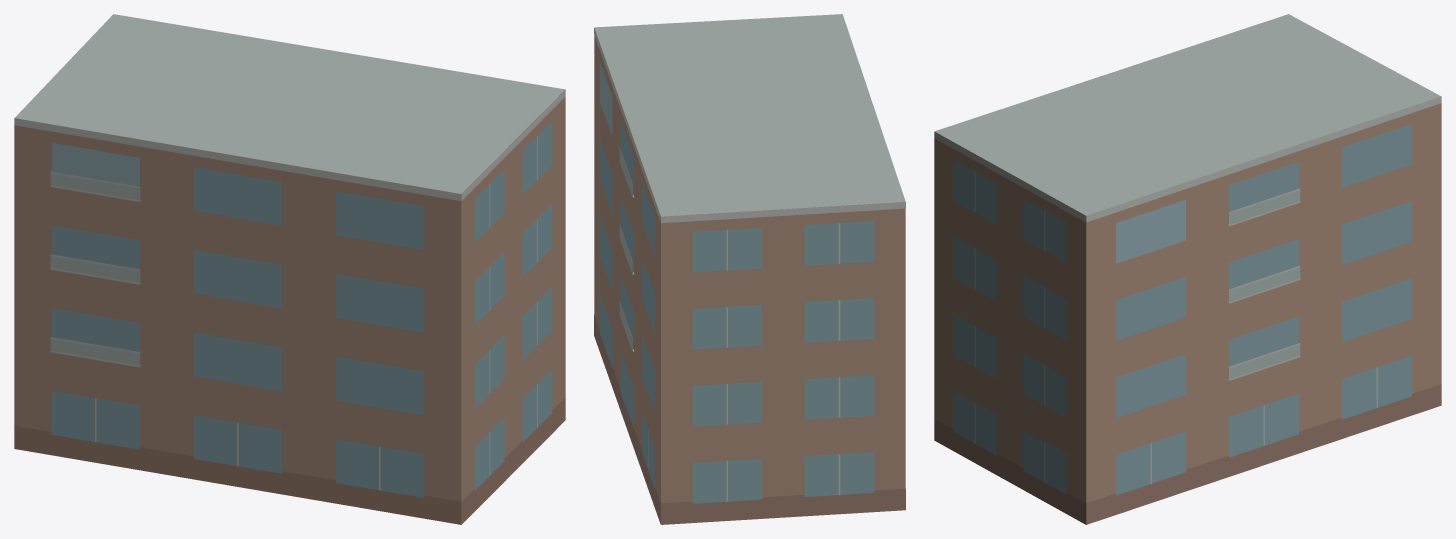
File: survey-upis-32496775.glb
The picture shows the model from 3 angles, left to right: view 1: azimuth 30°, elevation 25°; view 2: azimuth 150°, elevation 25°; view 3: azimuth 270°, elevation 25°; orthographic projection. The views are drawn at different scales.
Parts seen in each view (by area): view 1: survey-upis-32496775.tmp; view 2: survey-upis-32496775.tmp; view 3: survey-upis-32496775.tmp.
Boxes of the visible parts, left/top/right/bottom form: survey-upis-32496775.tmp: left=14, top=14, right=565, bottom=524; survey-upis-32496775.tmp: left=594, top=14, right=905, bottom=524; survey-upis-32496775.tmp: left=934, top=14, right=1441, bottom=524.
Bounding box in the file's own units: 15.91 × 11.35 × 16.9.
